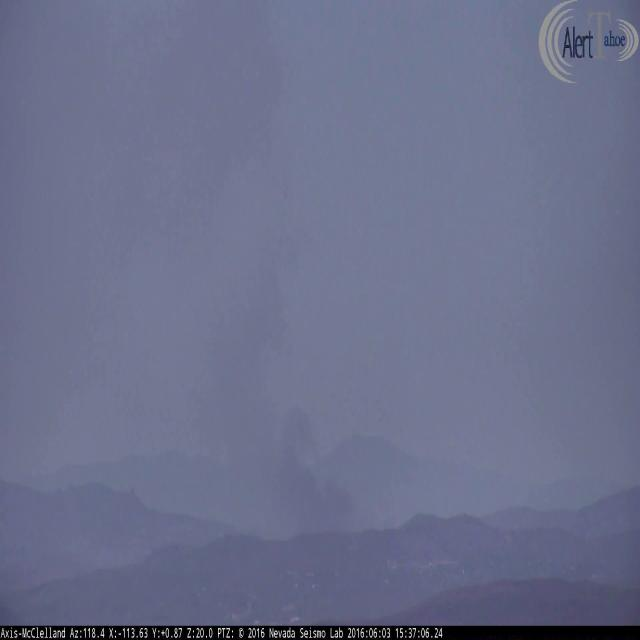smoke: (88, 18, 354, 543)
